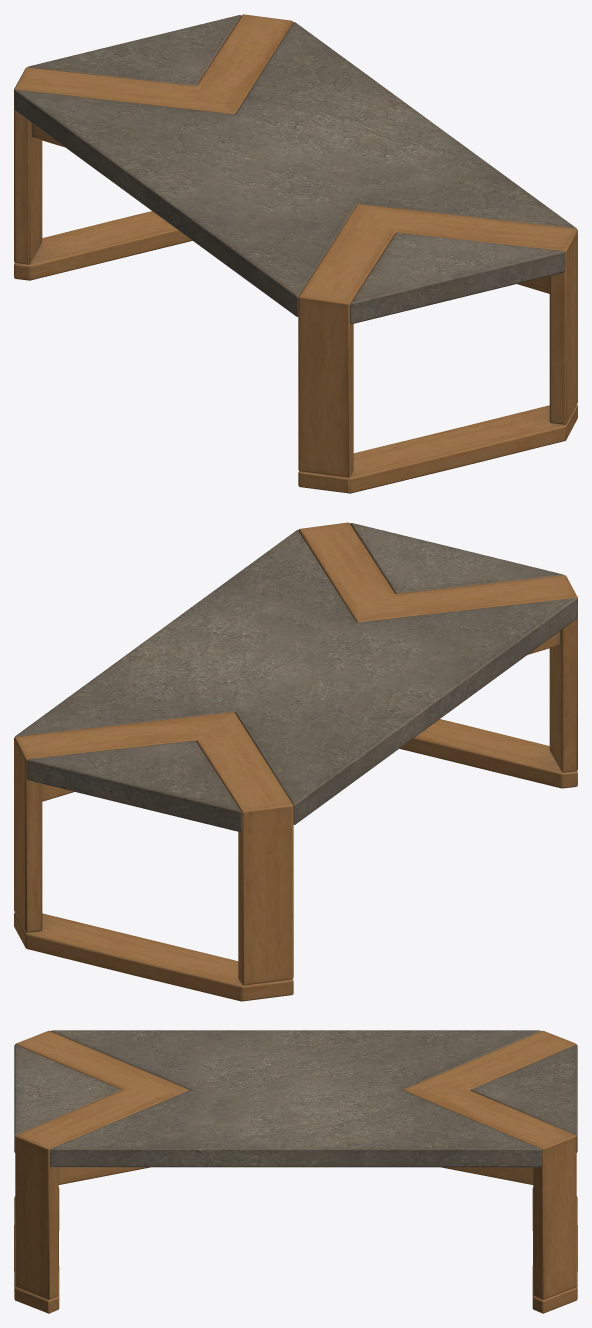
File: modern_coffee_table_01.glb
3 views of the same model, one above another, from view 1: azimuth 30°, elevation 25°; view 2: azimuth 150°, elevation 25°; view 3: azimuth 270°, elevation 25° (orthographic). The views are drawn at different scales.
Parts seen in each view (by area): view 1: modern_coffee_table_01; view 2: modern_coffee_table_01; view 3: modern_coffee_table_01.
Boxes of the visible parts, x1=… form: modern_coffee_table_01: x1=14, y1=14, x2=577, y2=493; modern_coffee_table_01: x1=14, y1=522, x2=577, y2=1001; modern_coffee_table_01: x1=14, y1=1030, x2=577, y2=1313.
Bounding box in the file's own units: 0.5999 × 0.39 × 1.2.
Materials: 1 (1 with a texture image).
